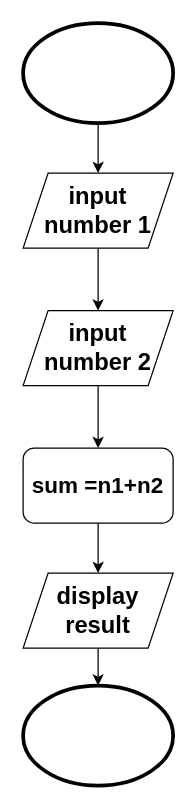
Some shapes in this 196 by 809 pixel diagram are drawn without their labels. The centre of each missing label's shape, as x and y in pixels:
End: (x=97, y=735)
start: (x=97, y=72)
